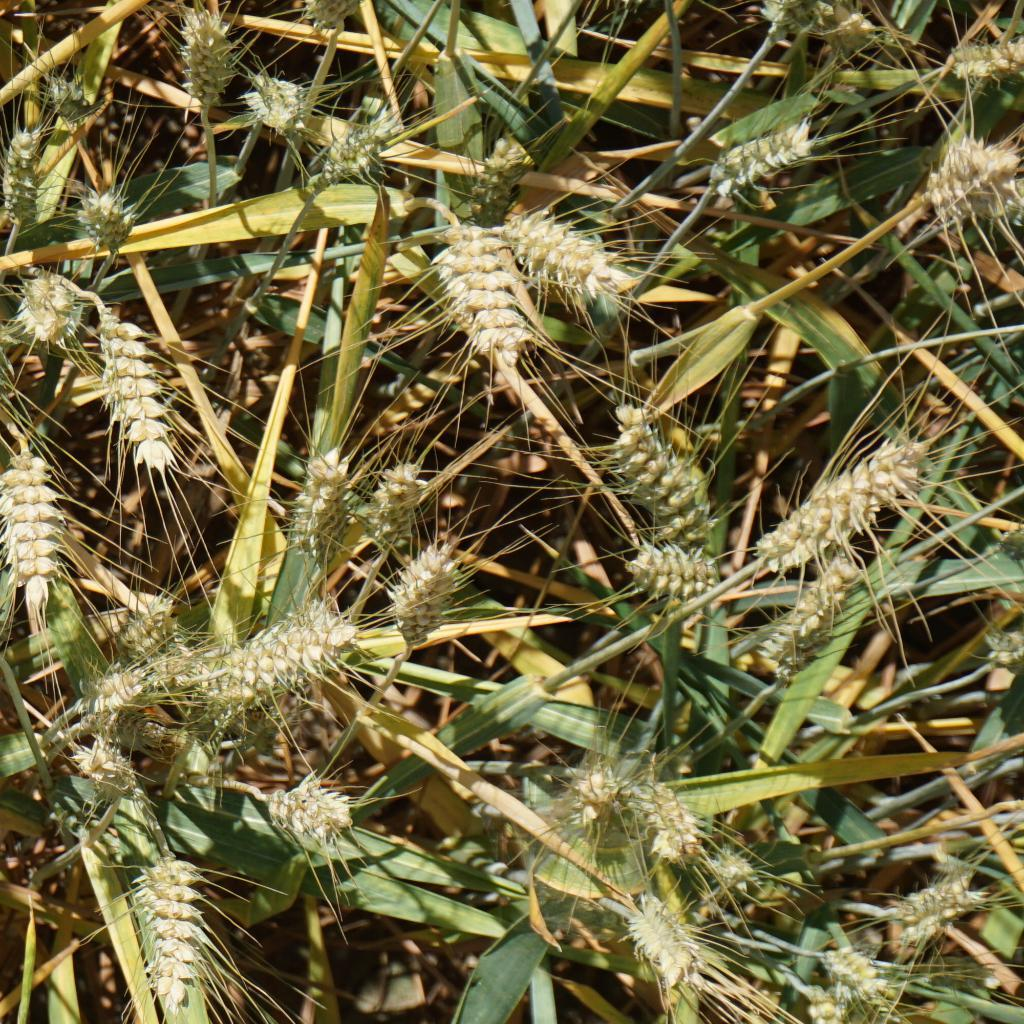0-0: (742, 430, 944, 581), (602, 392, 722, 560), (489, 206, 642, 309), (429, 211, 531, 365), (98, 305, 183, 485), (195, 624, 352, 711), (757, 561, 850, 698), (133, 846, 206, 1008), (706, 111, 825, 207), (453, 131, 550, 235), (4, 449, 72, 597), (313, 104, 416, 195), (923, 133, 1024, 224), (615, 767, 704, 867), (624, 892, 715, 987), (625, 530, 726, 609), (812, 925, 901, 1014), (173, 1, 239, 116), (389, 548, 467, 641), (372, 456, 451, 543), (8, 266, 88, 349), (297, 443, 359, 550), (244, 56, 313, 149), (891, 867, 978, 937), (0, 115, 51, 234), (945, 24, 1024, 93), (560, 759, 629, 835), (79, 180, 140, 261), (274, 784, 355, 839), (75, 658, 147, 719), (699, 841, 762, 907), (32, 60, 91, 126), (108, 591, 169, 648), (86, 733, 146, 790), (835, 996, 952, 1024), (768, 0, 846, 39), (972, 616, 1024, 674), (305, 0, 361, 35)
